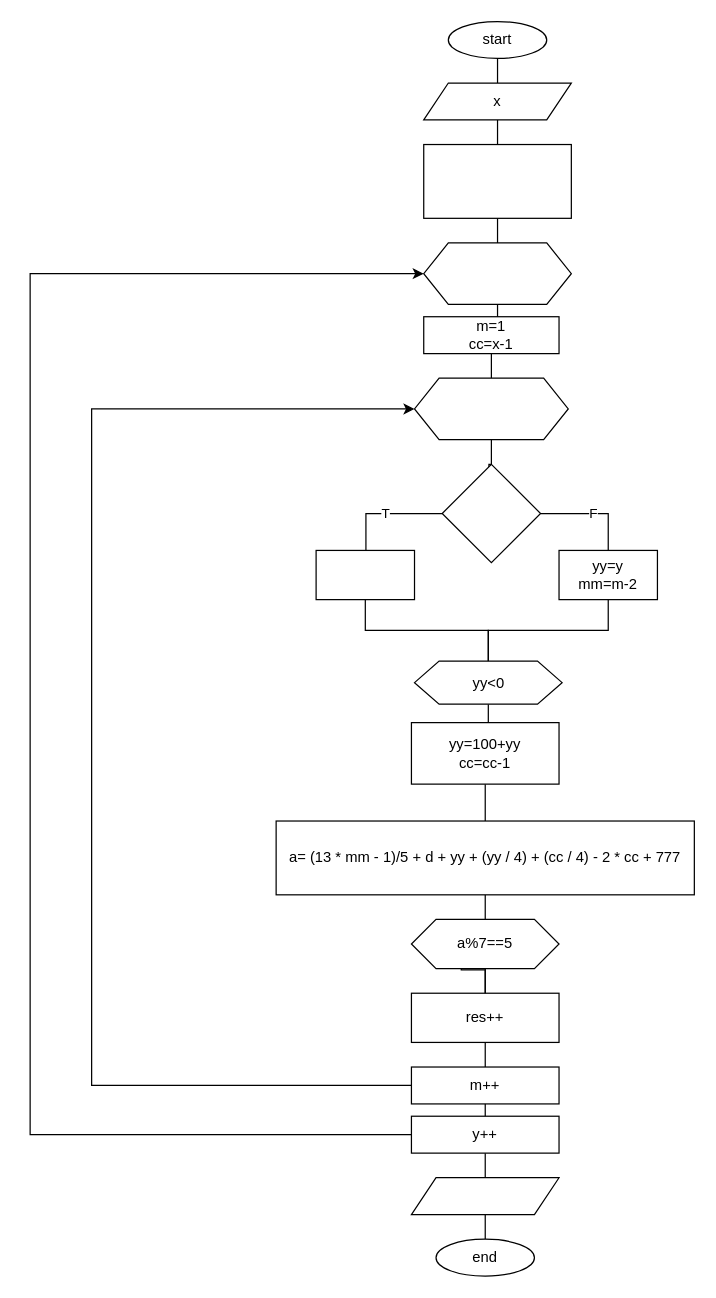
The diagram is 716 pixels wide and 1298 high, and some of its shapes have lost their labels. Here are the shapes that lost their labels. From the top down, the centre of each, then its label:
At (497,180): "d=13 c=x-1 y,m".
At (497,273): "y<100".
At (490,408): "m<=12".
At (491,513): "m<3".
At (365,574): "yy=y-1 mm=m+10".
At (484,1195): "res".
